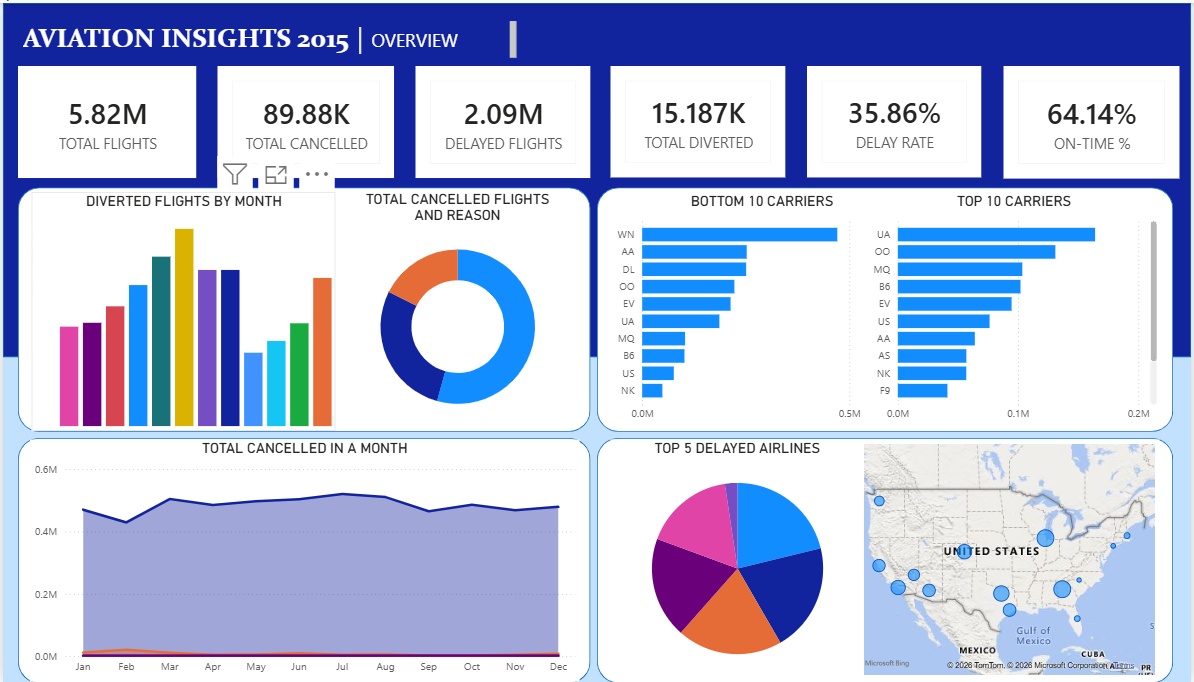

What the dashboard file says about the page in this screenshot:
{"tool":"powerbi","page":{"name":"Page 1","canvas":[1400,800],"ordinal":0},"visuals":[{"type":"shape","box":[0,0,1399.7,417.1],"z":0},{"type":"textbox","box":[17.7,15.9,592.1,60.1],"z":1000},{"type":"cardVisual","fields":{"Data":["Sum(VW_FLIGHT_OVERVIEW.TOTAL_FLIGHTS)"]},"box":[18,74,210,132],"z":2000},{"type":"shape","box":[17.8,217.8,674.4,287.8],"z":3000},{"type":"cardVisual","fields":{"Data":["Sum(VW_FLIGHT_OVERVIEW.TOTAL_DELAYED_FLIGHTS)"]},"box":[486,74,206,132],"z":4000},{"type":"cardVisual","fields":{"Data":["Sum(VW_FLIGHT_OVERVIEW.TOTAL_DIVERTED)"]},"box":[715.3,74.5,206.1,131.6],"z":5000},{"type":"shape","box":[17.8,512.2,674.4,288.9],"z":6000},{"type":"shape","box":[700,512.2,678.9,288.9],"z":7000},{"type":"shape","box":[700,217.8,678.9,287.8],"z":8000},{"type":"cardVisual","fields":{"Data":["Sum(VW_FLIGHT_OVERVIEW.TOTAL_CANCELLED)"]},"box":[252,74,208,132],"z":9000},{"type":"cardVisual","fields":{"Data":["VW_AIRPORT_MAP.Delay Rate"]},"box":[946.9,74.5,205.1,131.6],"z":10000},{"type":"cardVisual","fields":{"Data":["VW_AIRPORT_MAP.On-Time %"]},"box":[1178.6,73.5,207.1,132.7],"z":11000},{"type":"map","fields":{"Y":["VW_AIRPORT_MAP.LATITUDE"],"X":["VW_AIRPORT_MAP.LONGITUDE"],"Size":["Sum(VW_AIRPORT_MAP.TOTAL_DELAYED_FLIGHTS)"]},"box":[993.2,514.3,369.4,282.8],"z":12000},{"type":"columnChart","title":"DIVERTED FLIGHTS BY MONTH","fields":{"Category":["VW_MONTH_DIM.MONTH"],"Y":["Sum(VW_FLIGHT_OVERVIEW.TOTAL_DIVERTED)"],"Series":["VW_MONTH_DIM.MONTH_NAME"]},"box":[33.3,222.2,359.3,281.5],"z":13000},{"type":"donutChart","title":"TOTAL CANCELLED FLIGHTS AND REASON","fields":{"Category":["VW_CANCELLATION_ANALYSIS.REASON"],"Y":["Sum(VW_CANCELLATION_ANALYSIS.TOTAL_CANCELLED_FLIGHTS)"]},"box":[392.5,221.2,286.2,278.8],"z":14000},{"type":"clusteredBarChart","title":"BOTTOM 10 CARRIERS","fields":{"Y":["Sum(VW_BOTTOM_10_CARRIERS.TOTAL_DELAYED_FLIGHTS)"],"Category":["VW_BOTTOM_10_CARRIERS.AIRLINE_CODE"]},"box":[715.8,222.7,357,279.2],"z":15000},{"type":"clusteredBarChart","title":"TOP 10 CARRIERS","fields":{"Y":["Sum(VW_TOP_10_CARRIERS.TOTAL_DELAYED_FLIGHTS)"],"Category":["VW_TOP_10_CARRIERS.AIRLINE_CODE"]},"box":[1018,222.7,346.4,279.2],"z":16000},{"type":"areaChart","title":"TOTAL CANCELLED IN A MONTH","fields":{"Y":["Sum(VW_MONTHLY_TRENDS.MONTH)","Sum(VW_MONTHLY_TRENDS.TOTAL_FLIGHTS)","Sum(VW_MONTHLY_TRENDS.TOTAL_CANCELLED)","Sum(VW_MONTHLY_TRENDS.YEAR)"],"Category":["VW_MONTHLY_TRENDS.MONTH_NAME"]},"box":[32.5,515,647.5,285],"z":17000},{"type":"pieChart","title":"TOP 5 DELAYED AIRLINES","fields":{"Category":["VW_AIRPORT_TRAFFIC.AIRPORT"],"Series":["VW_AIRPORT_TRAFFIC.CITY"],"Y":["Sum(VW_AIRPORT_TRAFFIC.DELAY_RATE)"]},"box":[715.8,514.3,298.7,282.8],"z":18000}]}

Visuals, with their boxes in screenshot pixels (x1, y1, x2, y2), scaled from the page's 1400x800 canvas onto the 1194x682 screenshot:
shape: <bbox>0, 0, 1193, 356</bbox>
textbox: <bbox>15, 14, 520, 65</bbox>
cardVisual - Sum(VW_FLIGHT_OVERVIEW.TOTAL_FLIGHTS): <bbox>15, 63, 194, 176</bbox>
shape: <bbox>15, 186, 590, 431</bbox>
cardVisual - Sum(VW_FLIGHT_OVERVIEW.TOTAL_DELAYED_FLIGHTS): <bbox>414, 63, 590, 176</bbox>
cardVisual - Sum(VW_FLIGHT_OVERVIEW.TOTAL_DIVERTED): <bbox>610, 64, 786, 176</bbox>
shape: <bbox>15, 437, 590, 681</bbox>
shape: <bbox>597, 437, 1176, 681</bbox>
shape: <bbox>597, 186, 1176, 431</bbox>
cardVisual - Sum(VW_FLIGHT_OVERVIEW.TOTAL_CANCELLED): <bbox>215, 63, 392, 176</bbox>
cardVisual - VW_AIRPORT_MAP.Delay Rate: <bbox>808, 64, 982, 176</bbox>
cardVisual - VW_AIRPORT_MAP.On-Time %: <bbox>1005, 63, 1182, 176</bbox>
map - VW_AIRPORT_MAP.LATITUDE x VW_AIRPORT_MAP.LONGITUDE: <bbox>847, 438, 1162, 680</bbox>
"DIVERTED FLIGHTS BY MONTH" columnChart: <bbox>28, 189, 335, 429</bbox>
"TOTAL CANCELLED FLIGHTS AND REASON" donutChart: <bbox>335, 189, 579, 426</bbox>
"BOTTOM 10 CARRIERS" clusteredBarChart: <bbox>610, 190, 915, 428</bbox>
"TOP 10 CARRIERS" clusteredBarChart: <bbox>868, 190, 1164, 428</bbox>
"TOTAL CANCELLED IN A MONTH" areaChart: <bbox>28, 439, 580, 681</bbox>
"TOP 5 DELAYED AIRLINES" pieChart: <bbox>610, 438, 865, 680</bbox>
